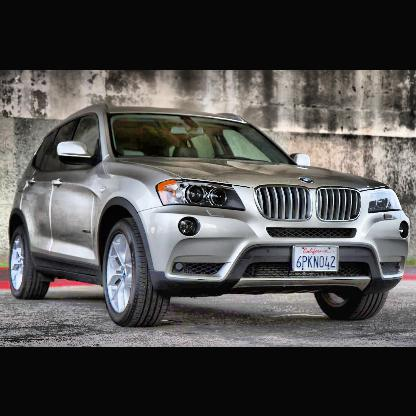BMW X3 SUV 2012: (9, 103, 412, 329)
